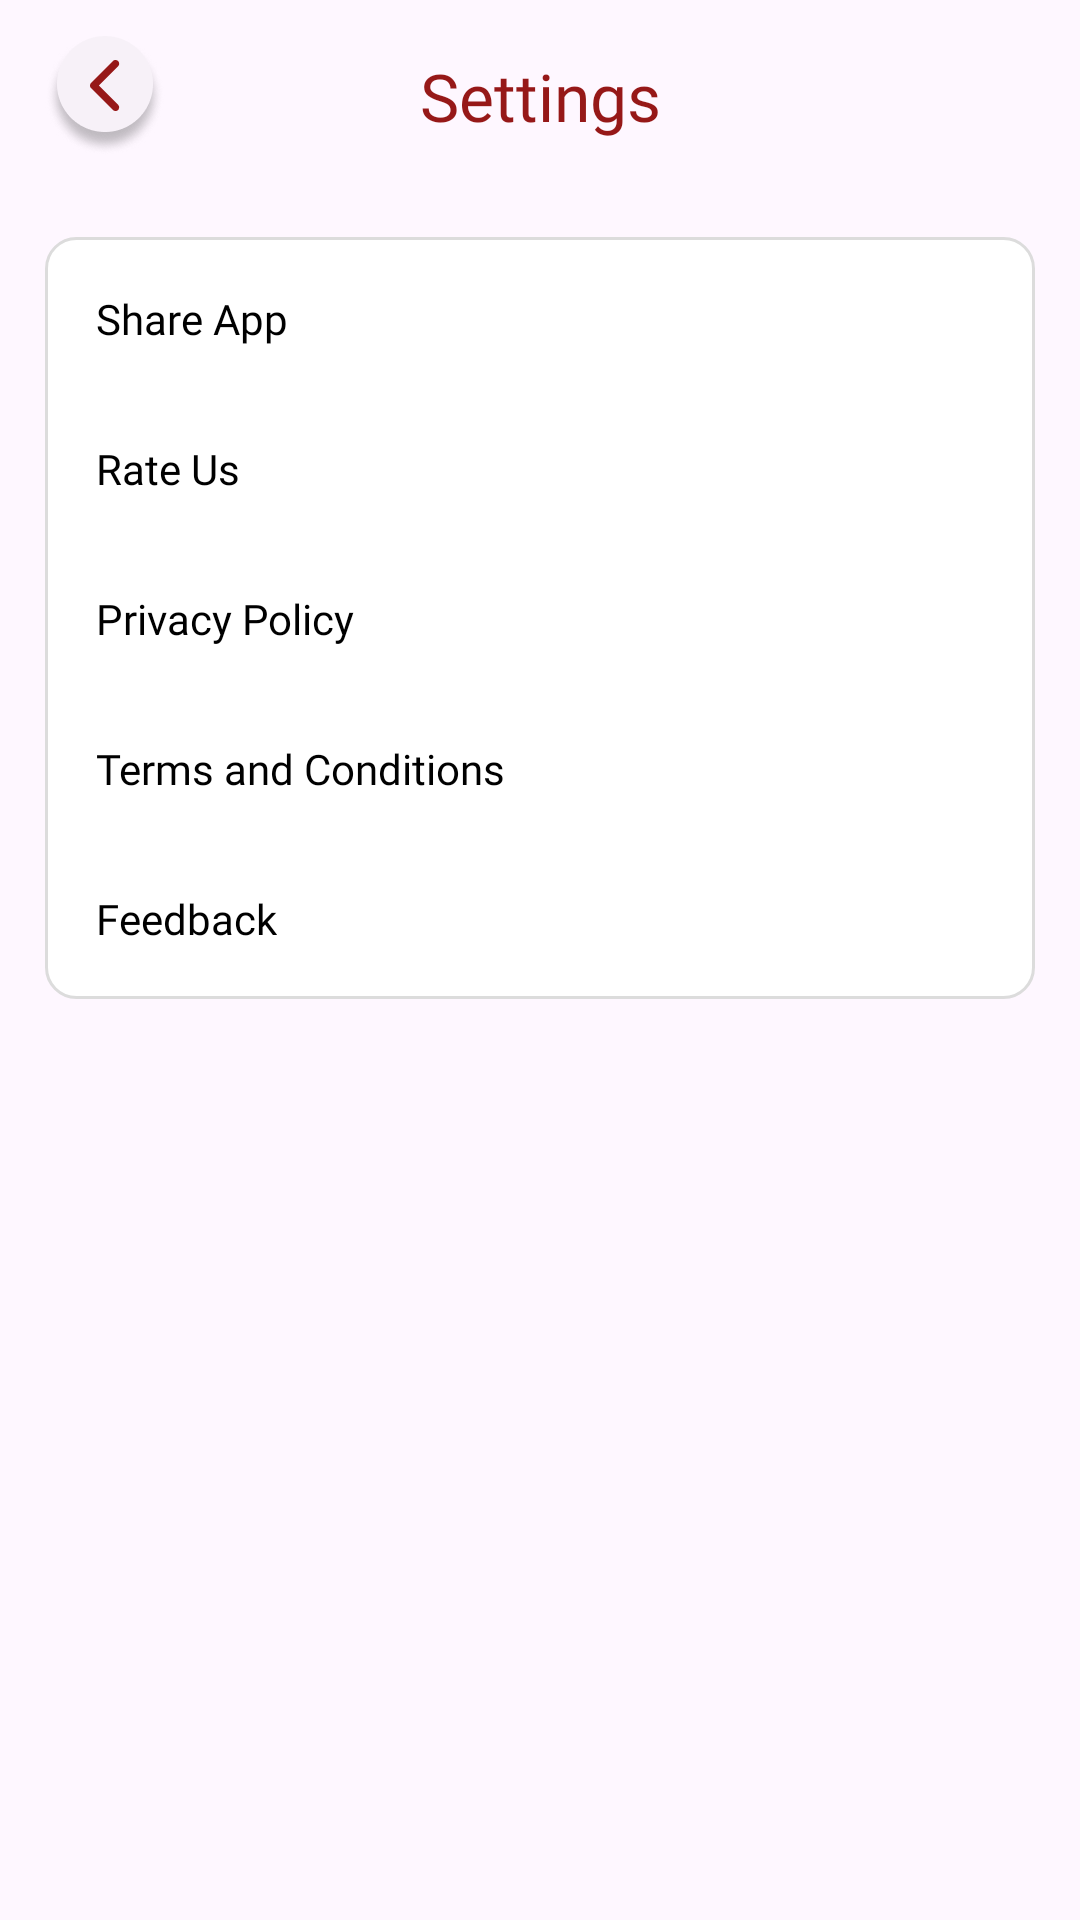

Where to tap for icons on this 1080 × 1920 app screen, as point (x, y):
back: point (105, 102)
